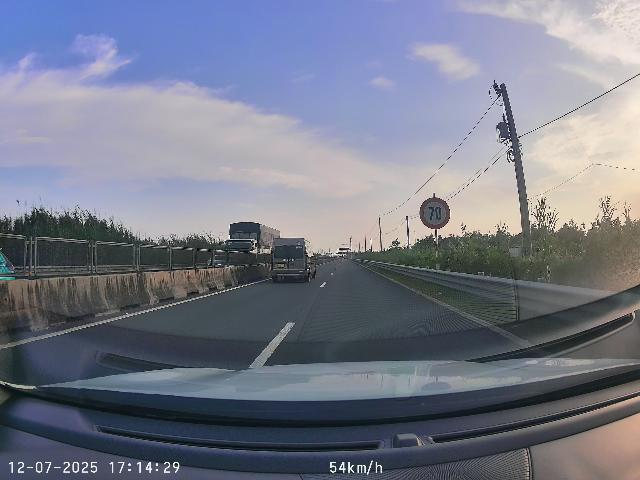127-toc-do-toi-da-70: (419, 197, 451, 230)
